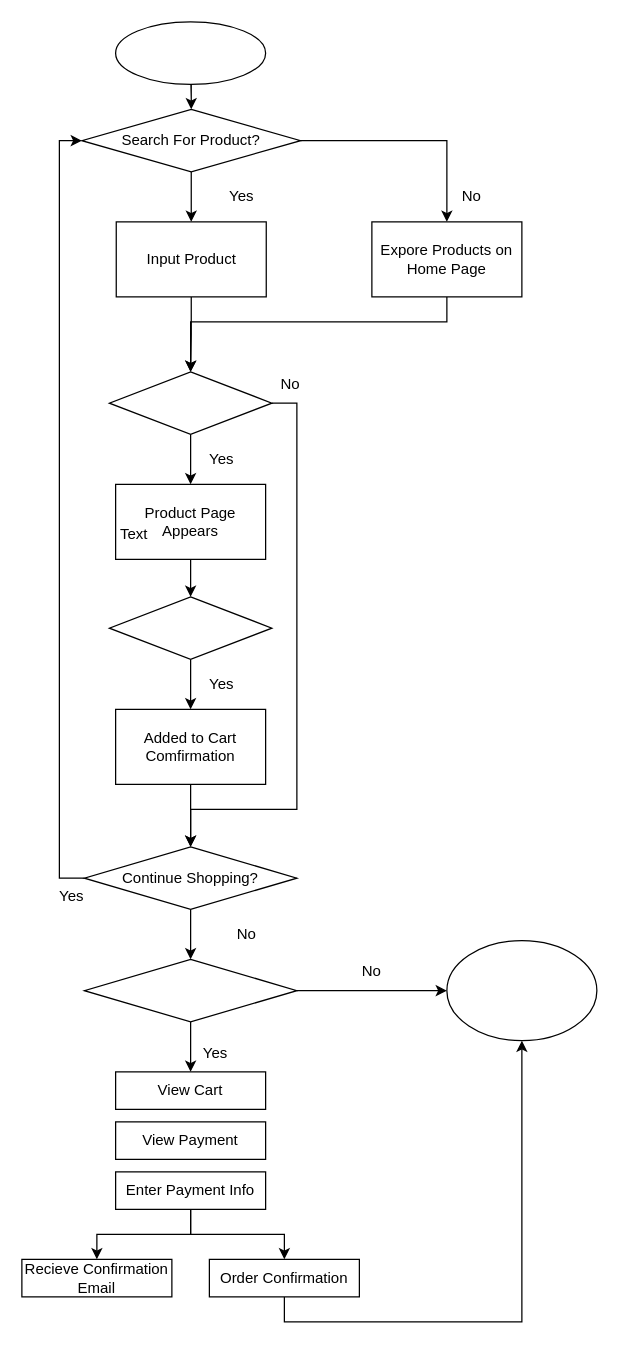
This 619x1354 diagram has some shape labels left out. The shapes that lost their labels are listed below. From the top down, each one's centre as x and y in pixels, then its label:
At point (190, 52): "User Enters the Website".
At point (190, 402): "View Product?".
At point (190, 627): "Add to Cart?".
At point (190, 990): "Checkout?".
At point (521, 990): "Leave the Website".
